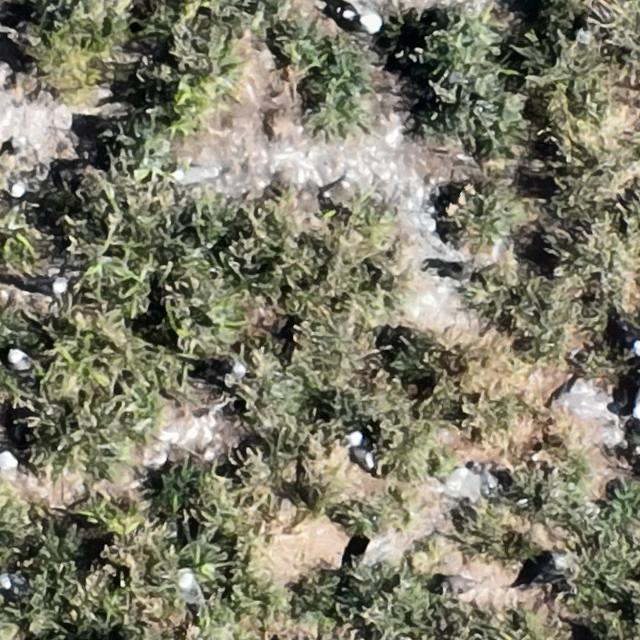umineko: (342, 3, 381, 32), (169, 163, 222, 184), (528, 557, 568, 584), (350, 432, 372, 467), (180, 572, 202, 607), (0, 169, 24, 197), (8, 350, 32, 372), (34, 277, 65, 291), (0, 449, 15, 471)
